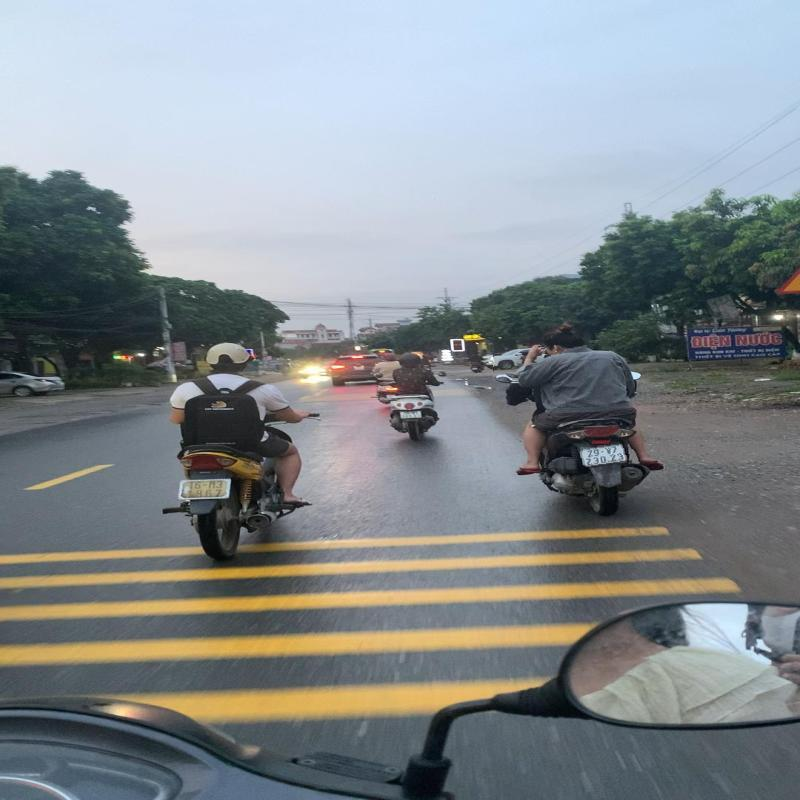motorcyclist: (493, 320, 668, 520)
nohelmet: (578, 443, 632, 469), (540, 324, 587, 353)
